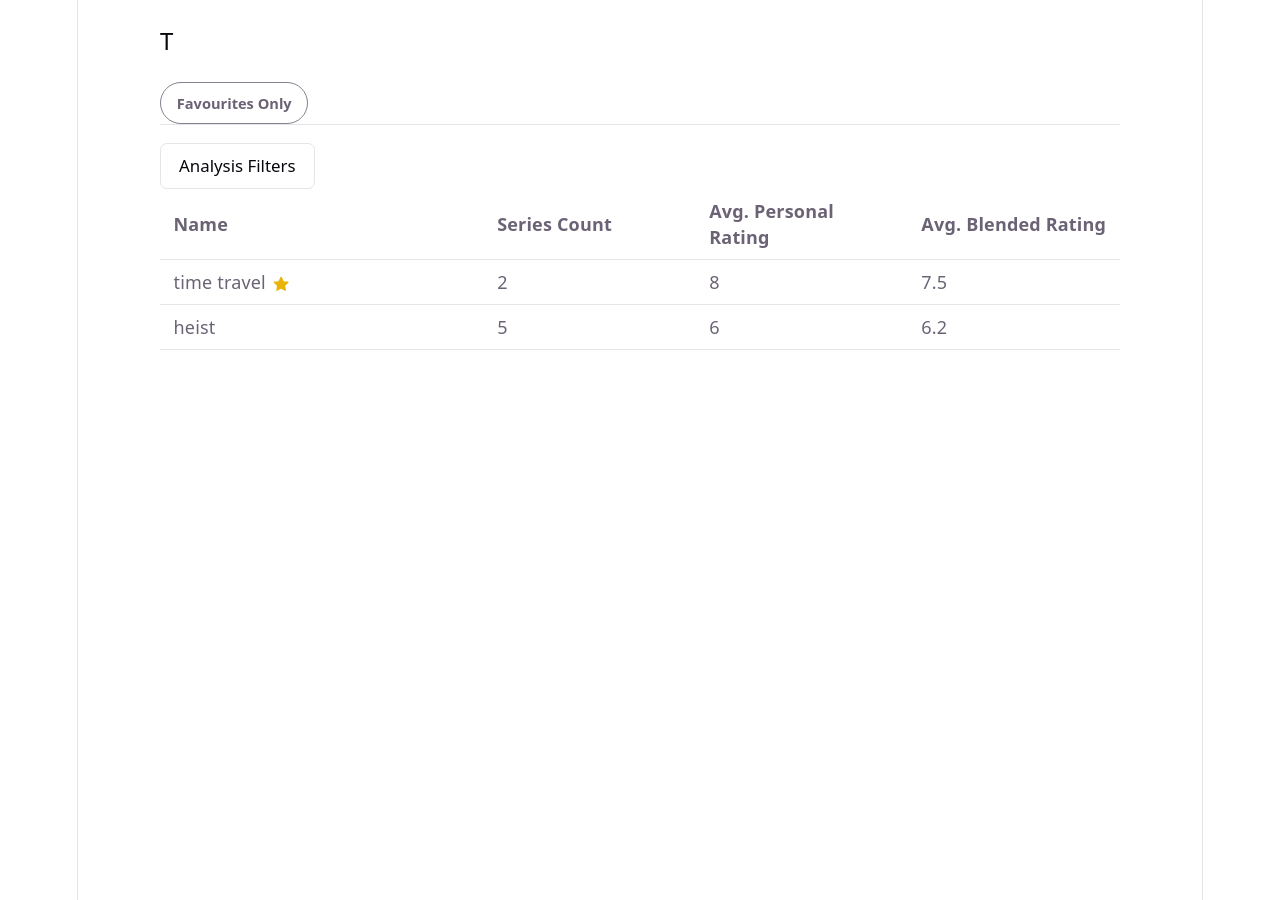
Test: FRONTEND-136-AC-03: Favourites Only filter › narrows rows to favourites only when checked, client-side
expect the text "heist" is shown: met, box top-left (160, 305), bottom-right (484, 350)
Click the button "Favourites Only": (234, 103) top-left (160, 82), bottom-right (308, 124)
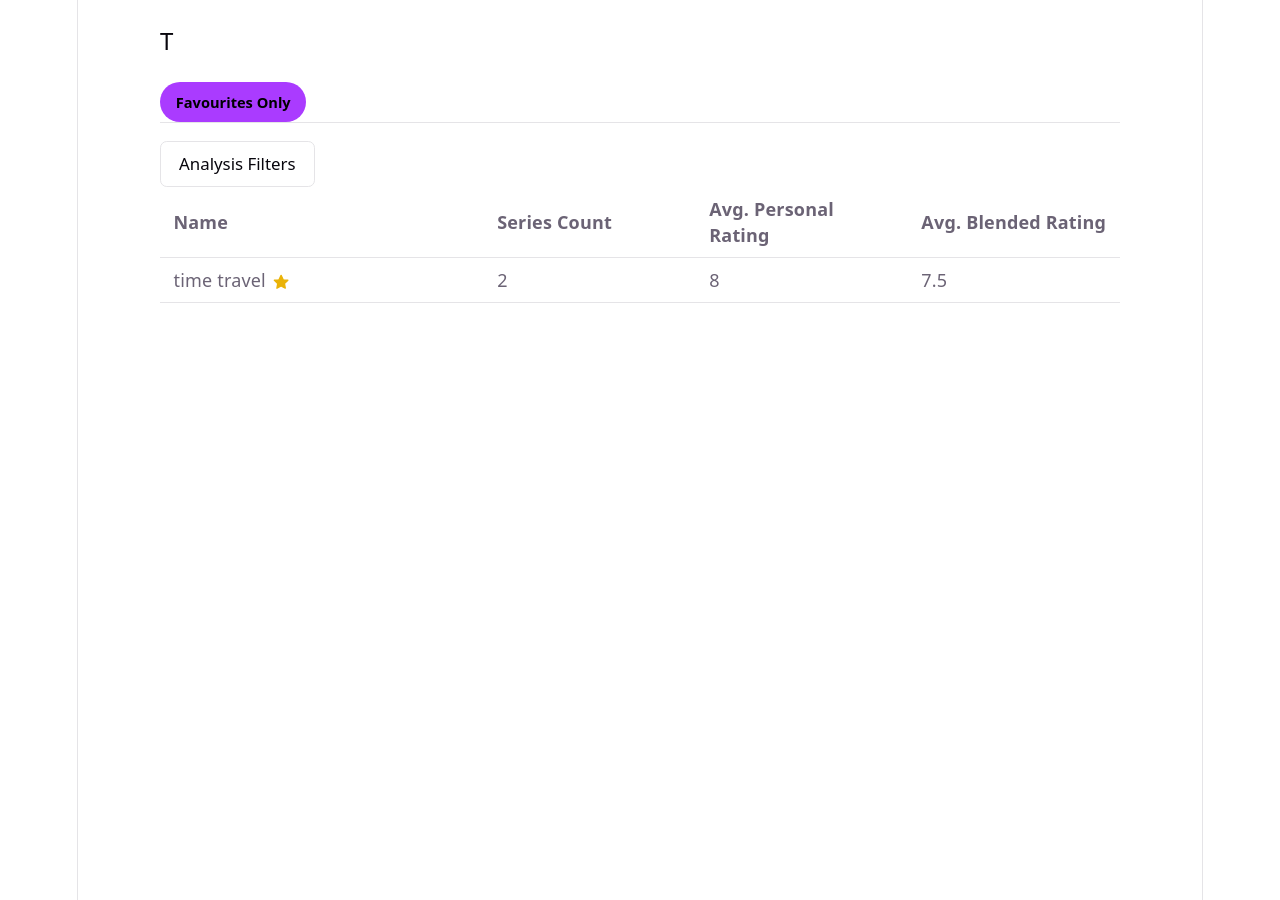
expect the text "time travel" is shown: met, box top-left (160, 258), bottom-right (484, 303)
expect the text "heist" is gone: met
Click the button "Favourites Only": (233, 102) top-left (160, 82), bottom-right (306, 122)
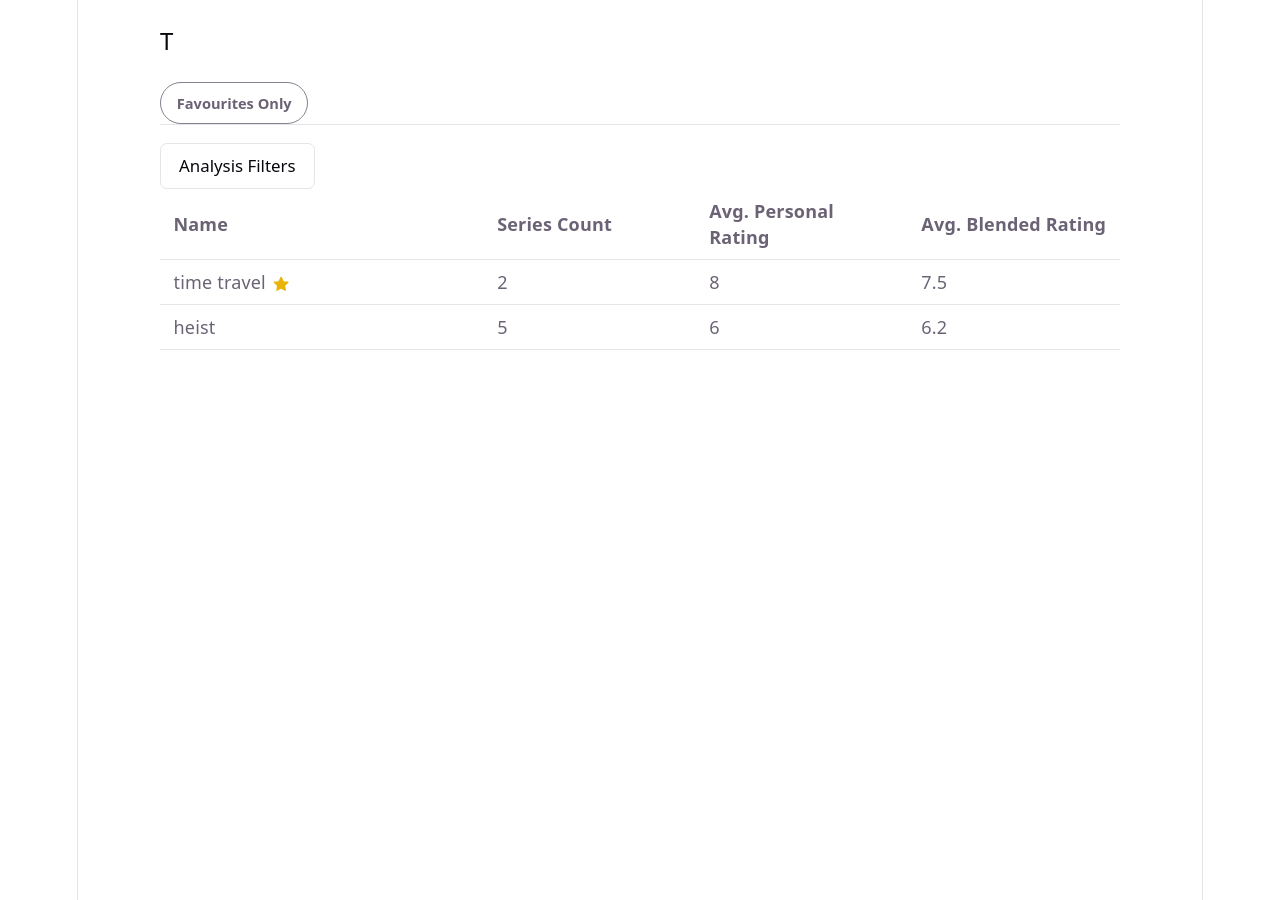
expect the text "heist" is shown: met, box top-left (160, 305), bottom-right (484, 350)
